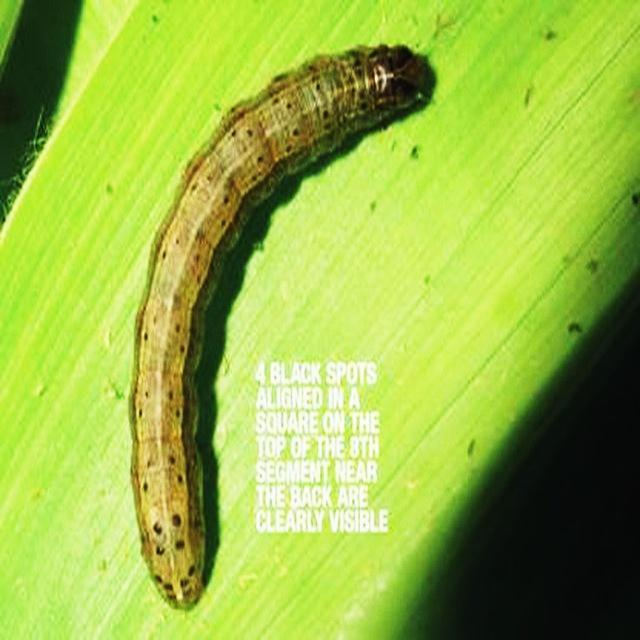gusano_cogollero: (123, 42, 434, 614)
